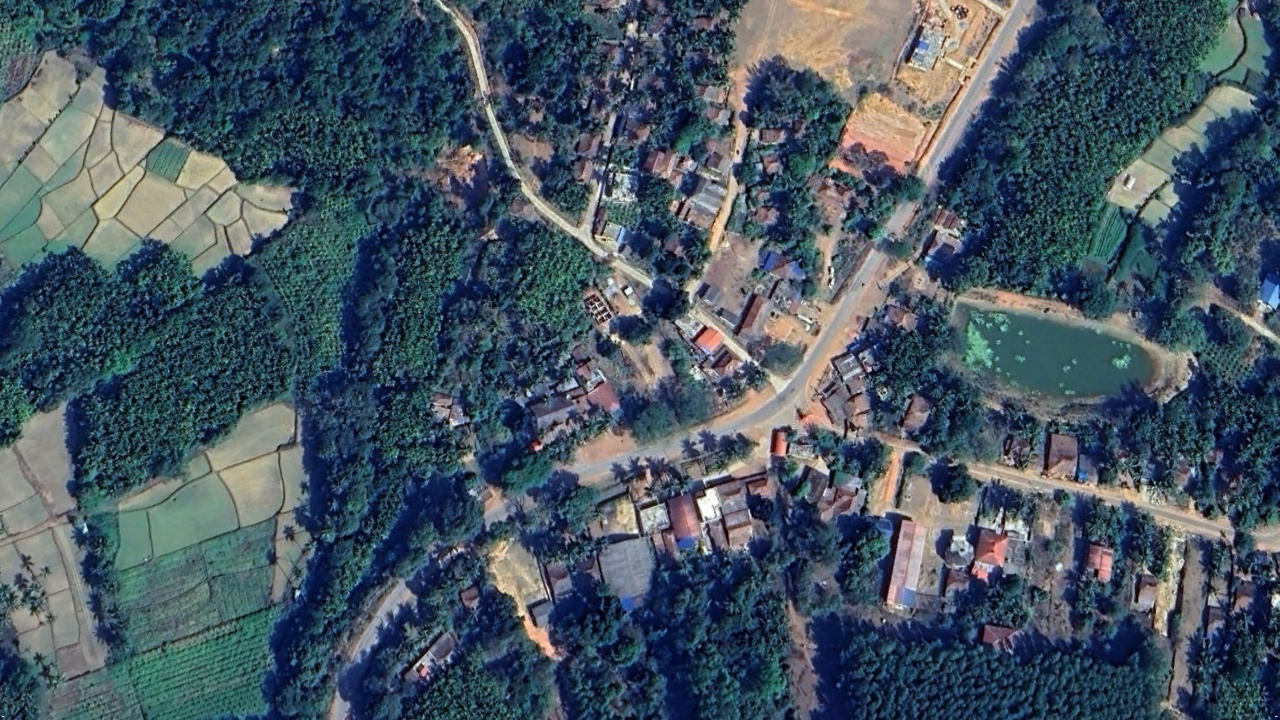arecanut: (930, 3, 1227, 285), (11, 250, 305, 498), (369, 199, 612, 474)
